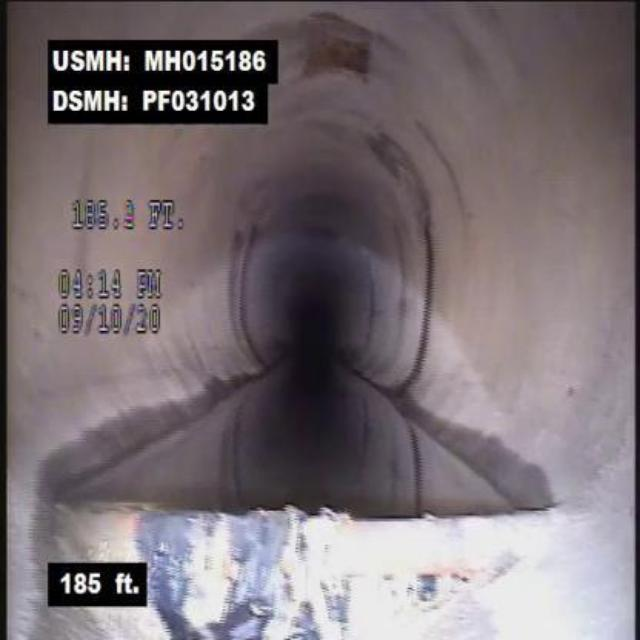Utility intrusion: (38, 502, 578, 595)
